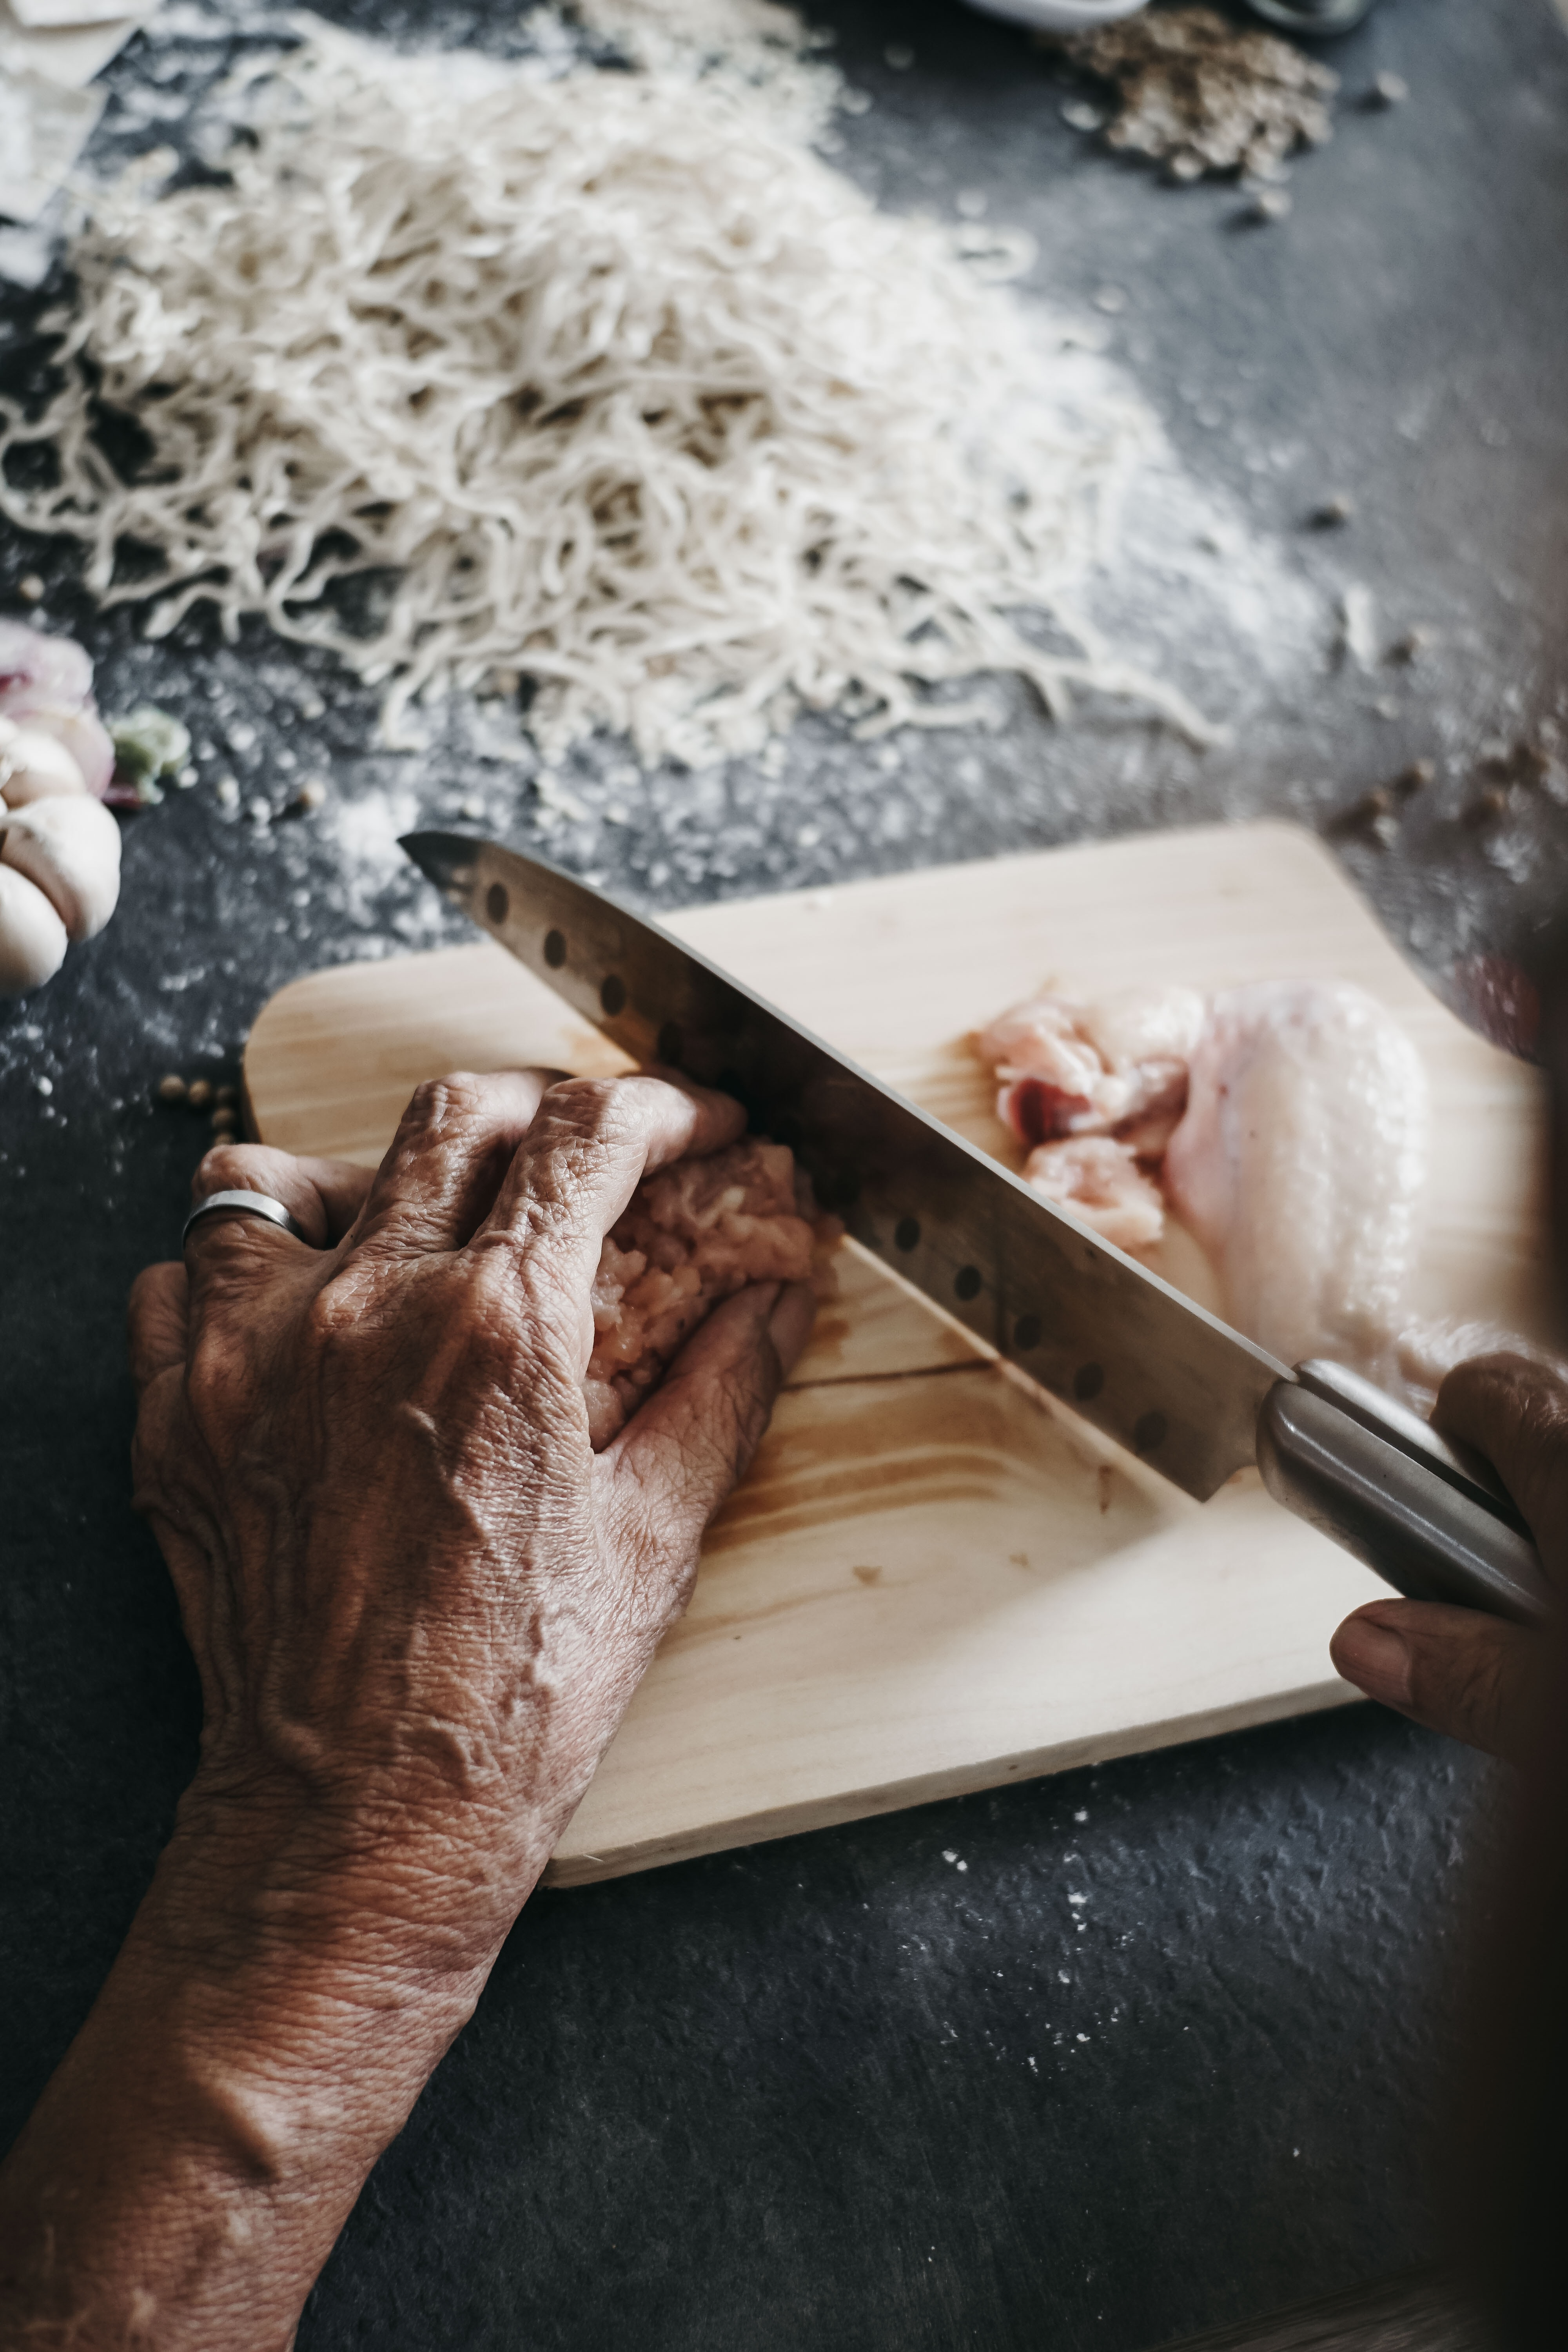knife: (388, 810, 1568, 1643)
